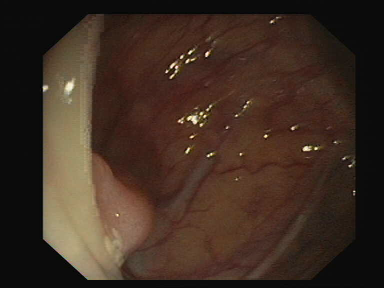polyp: (67, 133, 173, 257)
